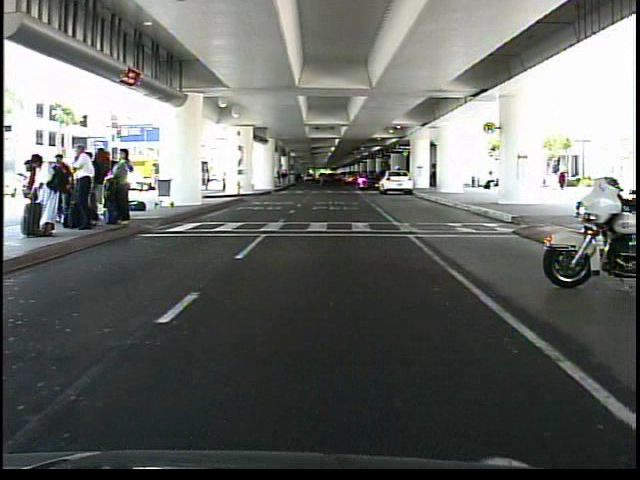person: (549, 157, 572, 196), (482, 164, 497, 196)
